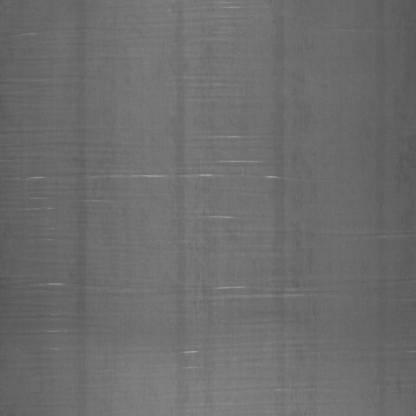waist_folding: (25, 24, 326, 354)
